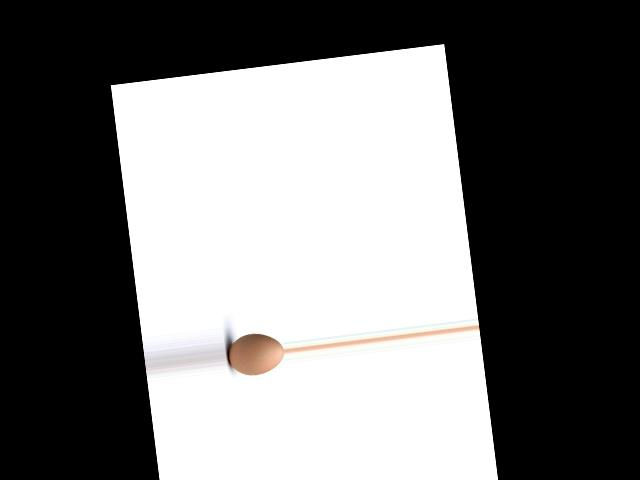egg: (225, 330, 285, 378)
